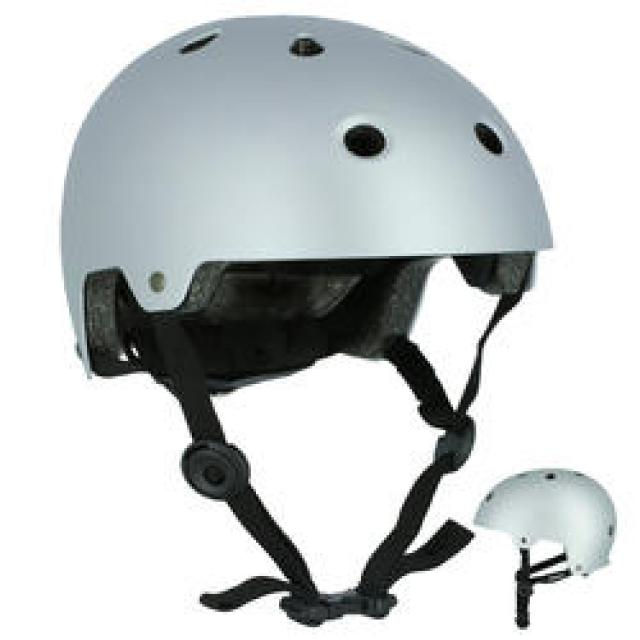Helmet: (63, 17, 605, 592)
